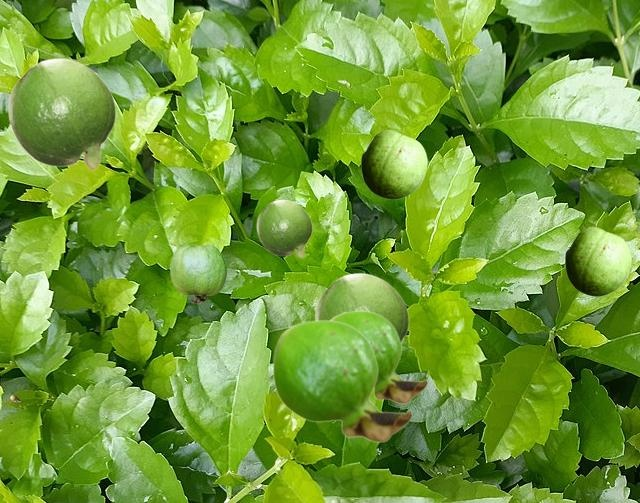guava: (272, 319, 412, 442), (7, 57, 115, 170), (330, 310, 427, 403), (314, 272, 408, 342), (361, 130, 426, 198), (565, 227, 630, 295), (170, 244, 226, 302), (256, 199, 311, 257)
